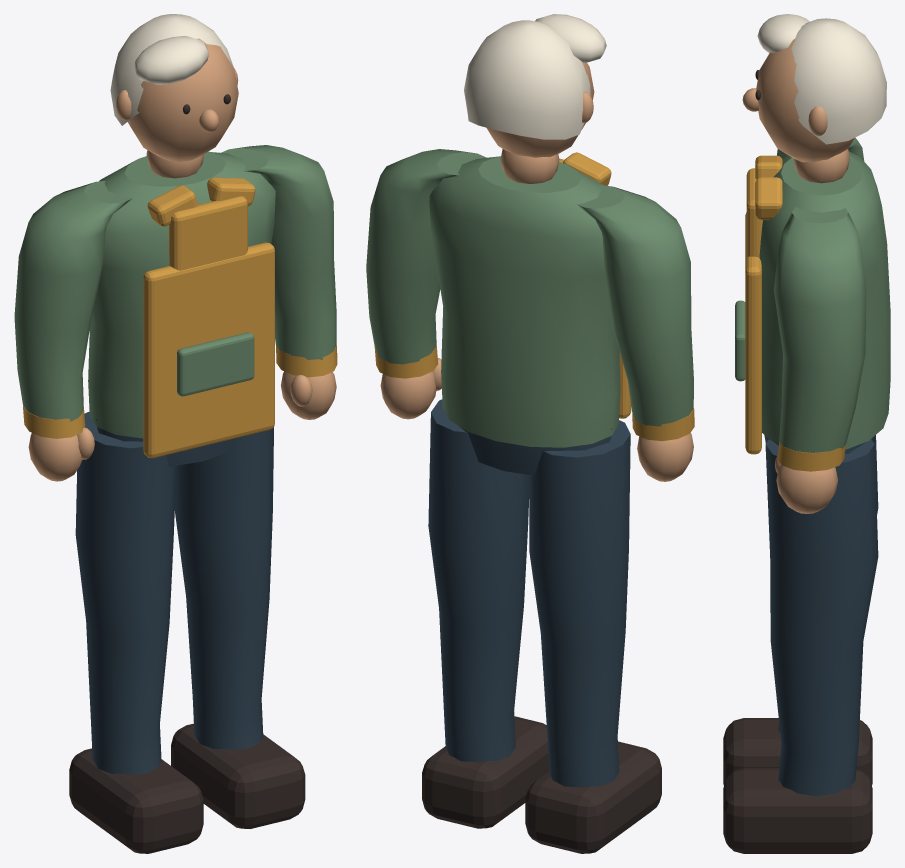
Rendered from master.glb.
The picture shows the model from 3 angles, left to right: view 1: azimuth 30°, elevation 25°; view 2: azimuth 150°, elevation 25°; view 3: azimuth 270°, elevation 25°; orthographic projection.
Visible parts, largest first — view 1: batch-right-leg-dark, batch-master-root-ochre, batch-left-leg-dark, batch-master-root-green, batch-right-arm-green, batch-left-arm-green, batch-right-leg-hair, batch-master-root-skin, batch-left-leg-hair, batch-master-root-cream, batch-right-arm-skin, batch-left-arm-skin (+3 smaller); view 2: batch-master-root-green, batch-right-leg-dark, batch-left-leg-dark, batch-right-arm-green, batch-left-arm-green, batch-master-root-cream, batch-right-leg-hair, batch-left-leg-hair, batch-master-root-skin, batch-master-root-dark, batch-left-arm-skin, batch-right-arm-skin (+3 smaller); view 3: batch-left-leg-dark, batch-left-arm-green, batch-master-root-green, batch-left-leg-hair, batch-master-root-cream, batch-master-root-skin, batch-master-root-ochre, batch-right-leg-hair, batch-left-arm-skin, batch-left-arm-ochre.
Boxes of the visible parts, box(x1,y1,x2,y2) form: batch-right-leg-dark: box(75, 411, 176, 774); batch-master-root-ochre: box(143, 177, 274, 458); batch-left-leg-dark: box(174, 427, 273, 749); batch-master-root-green: box(88, 151, 275, 438); batch-right-arm-green: box(14, 181, 132, 421); batch-left-arm-green: box(221, 145, 336, 360); batch-right-leg-hair: box(69, 748, 203, 853); batch-master-root-skin: box(116, 38, 238, 178); batch-left-leg-hair: box(171, 723, 305, 828); batch-master-root-cream: box(110, 14, 234, 125); batch-right-arm-skin: box(28, 427, 94, 481); batch-left-arm-skin: box(281, 371, 336, 419); batch-master-root-green: box(429, 156, 620, 447); batch-right-leg-dark: box(529, 420, 630, 787); batch-left-leg-dark: box(428, 399, 529, 762); batch-right-arm-green: box(577, 185, 693, 426); batch-left-arm-green: box(366, 149, 486, 364); batch-master-root-cream: box(464, 14, 606, 139); batch-right-leg-hair: box(525, 741, 661, 853); batch-left-leg-hair: box(422, 716, 548, 828); batch-master-root-skin: box(486, 62, 594, 183); batch-master-root-dark: box(459, 426, 612, 475); batch-left-arm-skin: box(380, 358, 441, 419); batch-right-arm-skin: box(637, 432, 693, 481); batch-left-leg-dark: box(765, 439, 878, 796); batch-left-arm-green: box(773, 207, 866, 452); batch-master-root-green: box(735, 151, 890, 449); batch-left-leg-hair: box(723, 768, 872, 853); batch-master-root-cream: box(757, 14, 886, 144); batch-master-root-skin: box(742, 39, 854, 183); batch-master-root-ochre: box(745, 155, 782, 454); batch-right-leg-hair: box(723, 718, 872, 785); batch-left-arm-skin: box(775, 455, 837, 513); batch-left-arm-ochre: box(777, 442, 845, 471).
Bounding box in the file's own units: 0.696 × 1.7 × 0.325.
